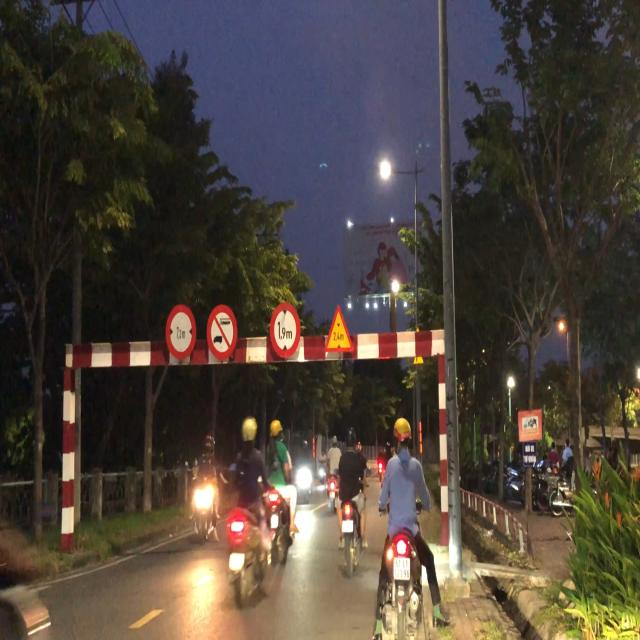Bien bao cam xe oto khach va xe oto tai: (205, 303, 240, 361)
Bien bao chieu cao tinh khong thuc te: (320, 300, 354, 357)
Bien bao han che chieu cao: (268, 296, 302, 359)
